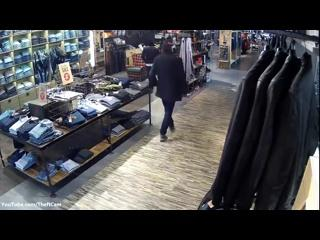Normal: (148, 42, 187, 142), (142, 40, 160, 64)
